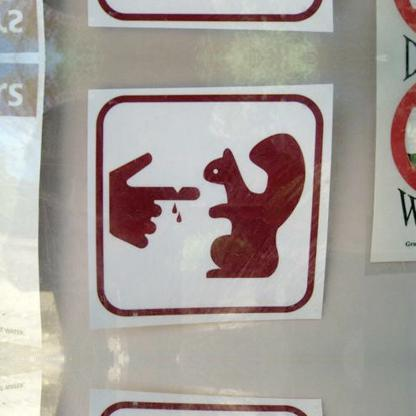Squirrel: (201, 129, 307, 276)
